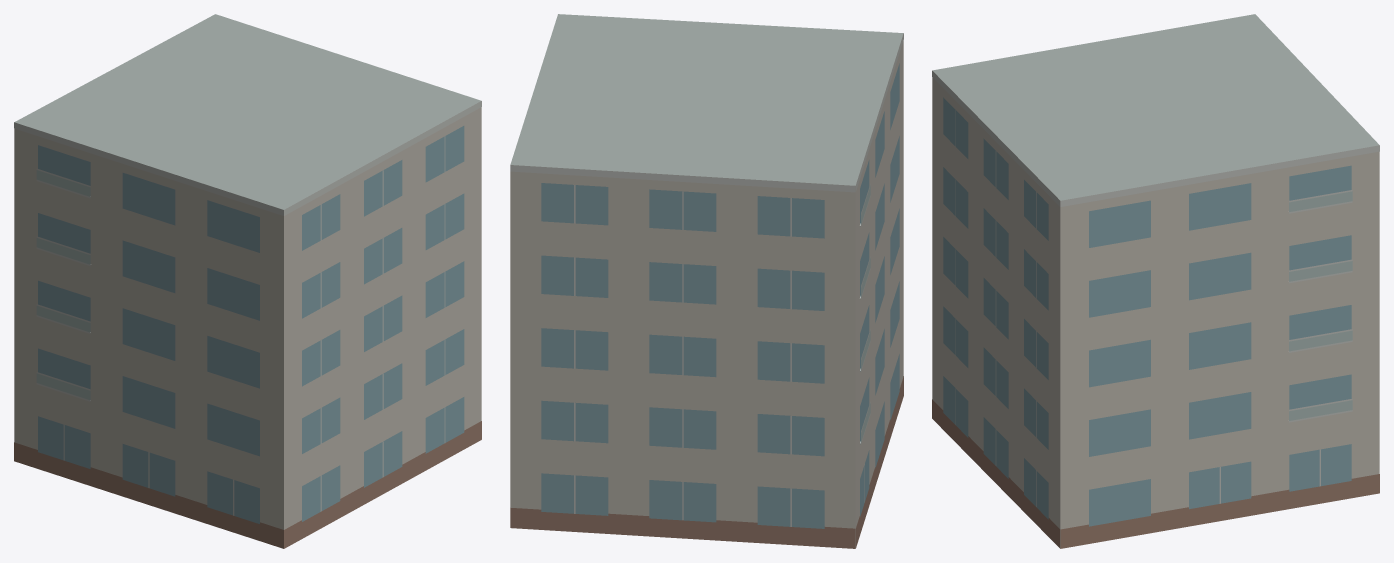
Rendered from survey-upis-33007065.glb.
The picture shows the model from 3 angles, left to right: view 1: azimuth 30°, elevation 25°; view 2: azimuth 150°, elevation 25°; view 3: azimuth 270°, elevation 25°; orthographic projection. The views are drawn at different scales.
Parts seen in each view (by area): view 1: survey-upis-33007065.tmp; view 2: survey-upis-33007065.tmp; view 3: survey-upis-33007065.tmp.
Part boxes in pixels (bbox=[...]): survey-upis-33007065.tmp: bbox=[14, 14, 481, 548]; survey-upis-33007065.tmp: bbox=[510, 14, 903, 548]; survey-upis-33007065.tmp: bbox=[932, 14, 1379, 548].
Bounding box in the file's own units: 15.37 × 13.35 × 15.57.
